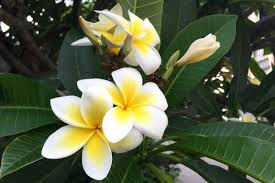frangipani: (42, 85, 139, 179)
